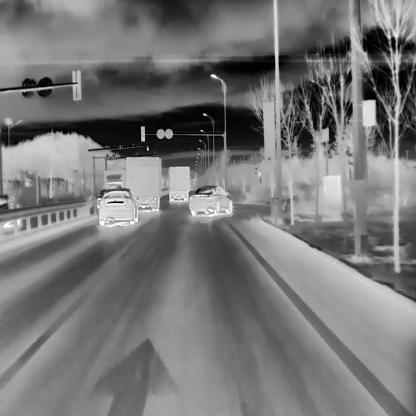car: (98, 186, 138, 224), (188, 184, 231, 214)
truck: (126, 156, 158, 210), (101, 156, 127, 187), (168, 165, 188, 201)
